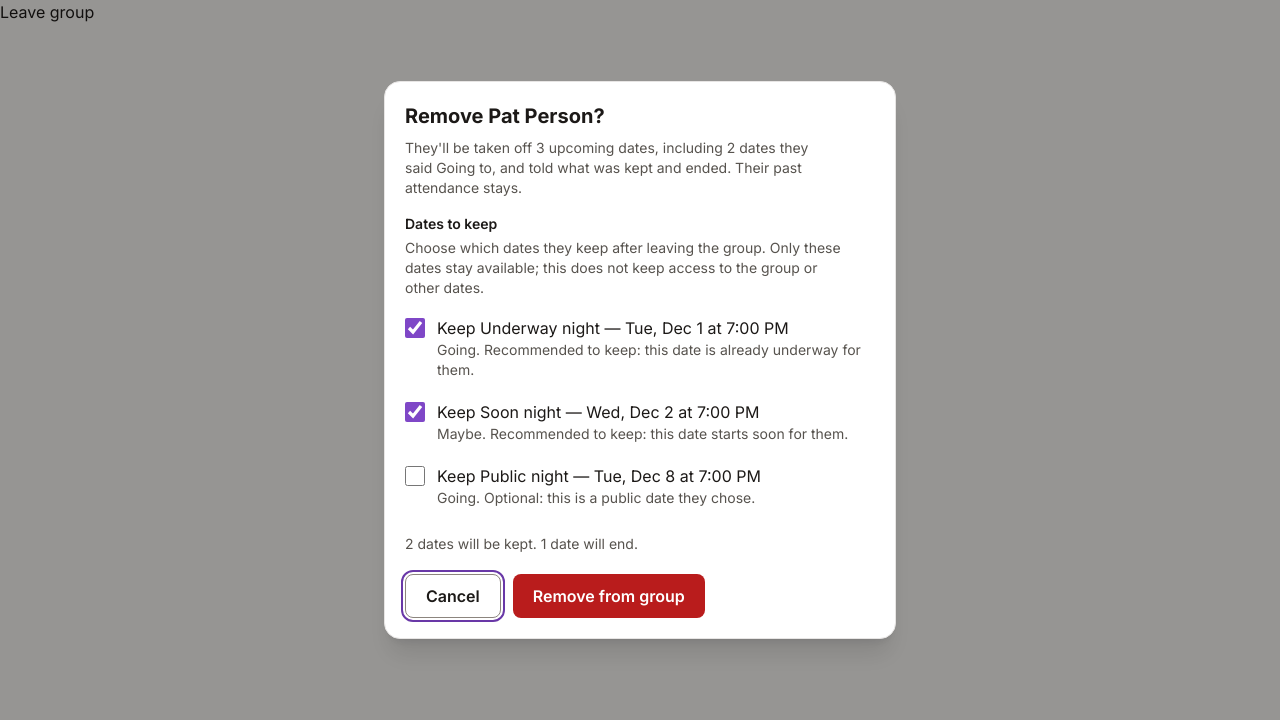
Test: drops stale person and group names when authority is gone
Click the button "Remove from group". click: (609, 596)
box: left=513, top=574, right=705, bottom=618
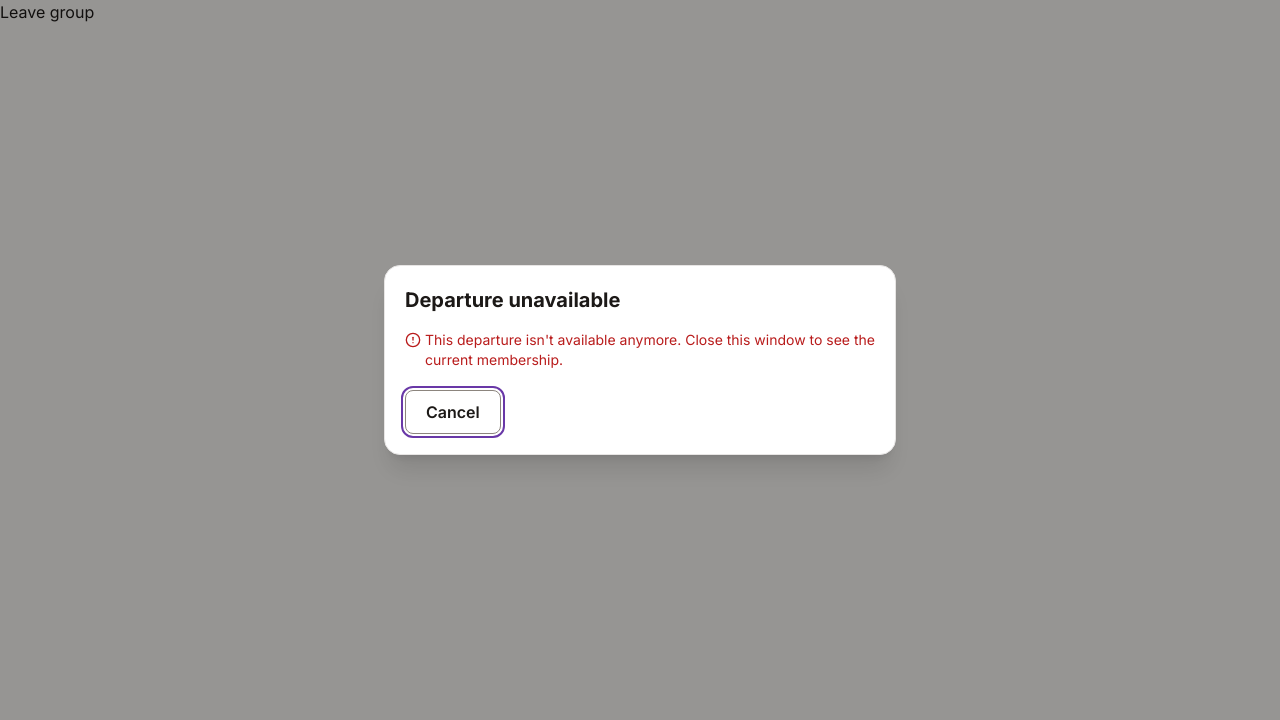
Result: the heading "Departure unavailable" is shown at left=405, top=288, right=620, bottom=312
Result: the heading "Remove Pat Person?" is gone
Result: the message shows "isn't available anymore" at left=425, top=331, right=875, bottom=368
